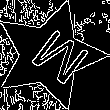M_SW: (14, 21, 85, 89)
